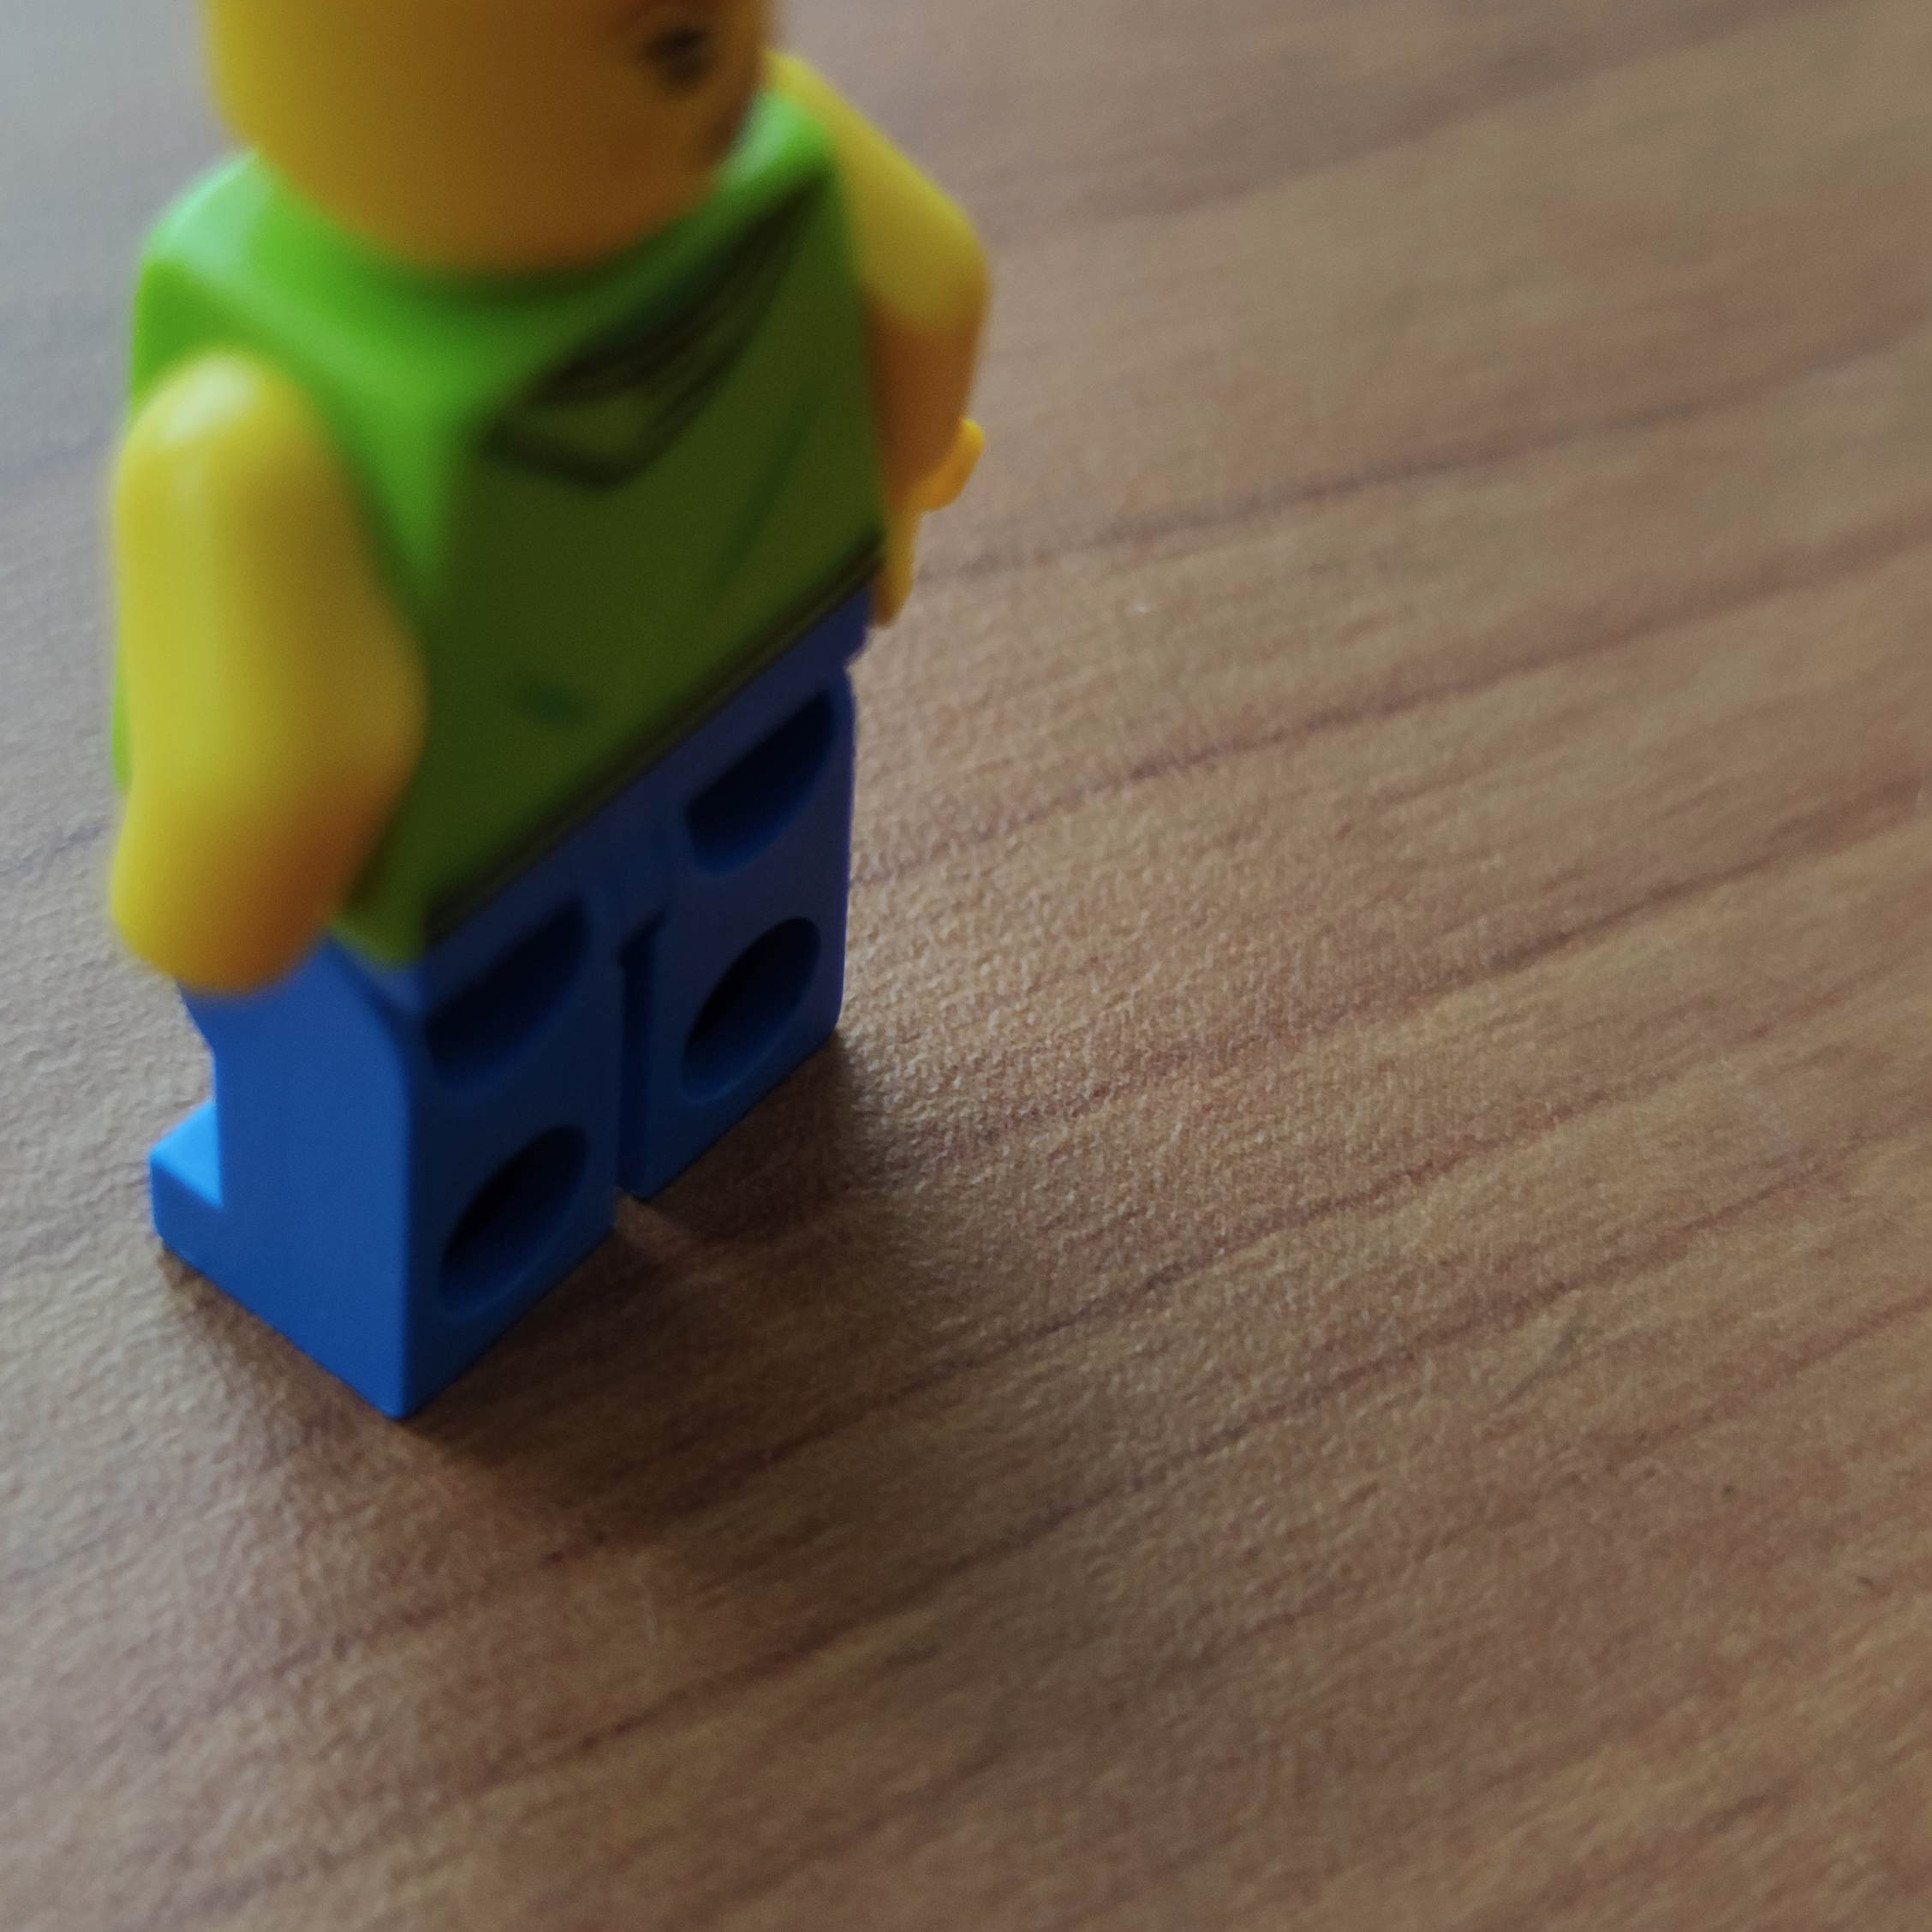lego: (101, 0, 994, 1426)
